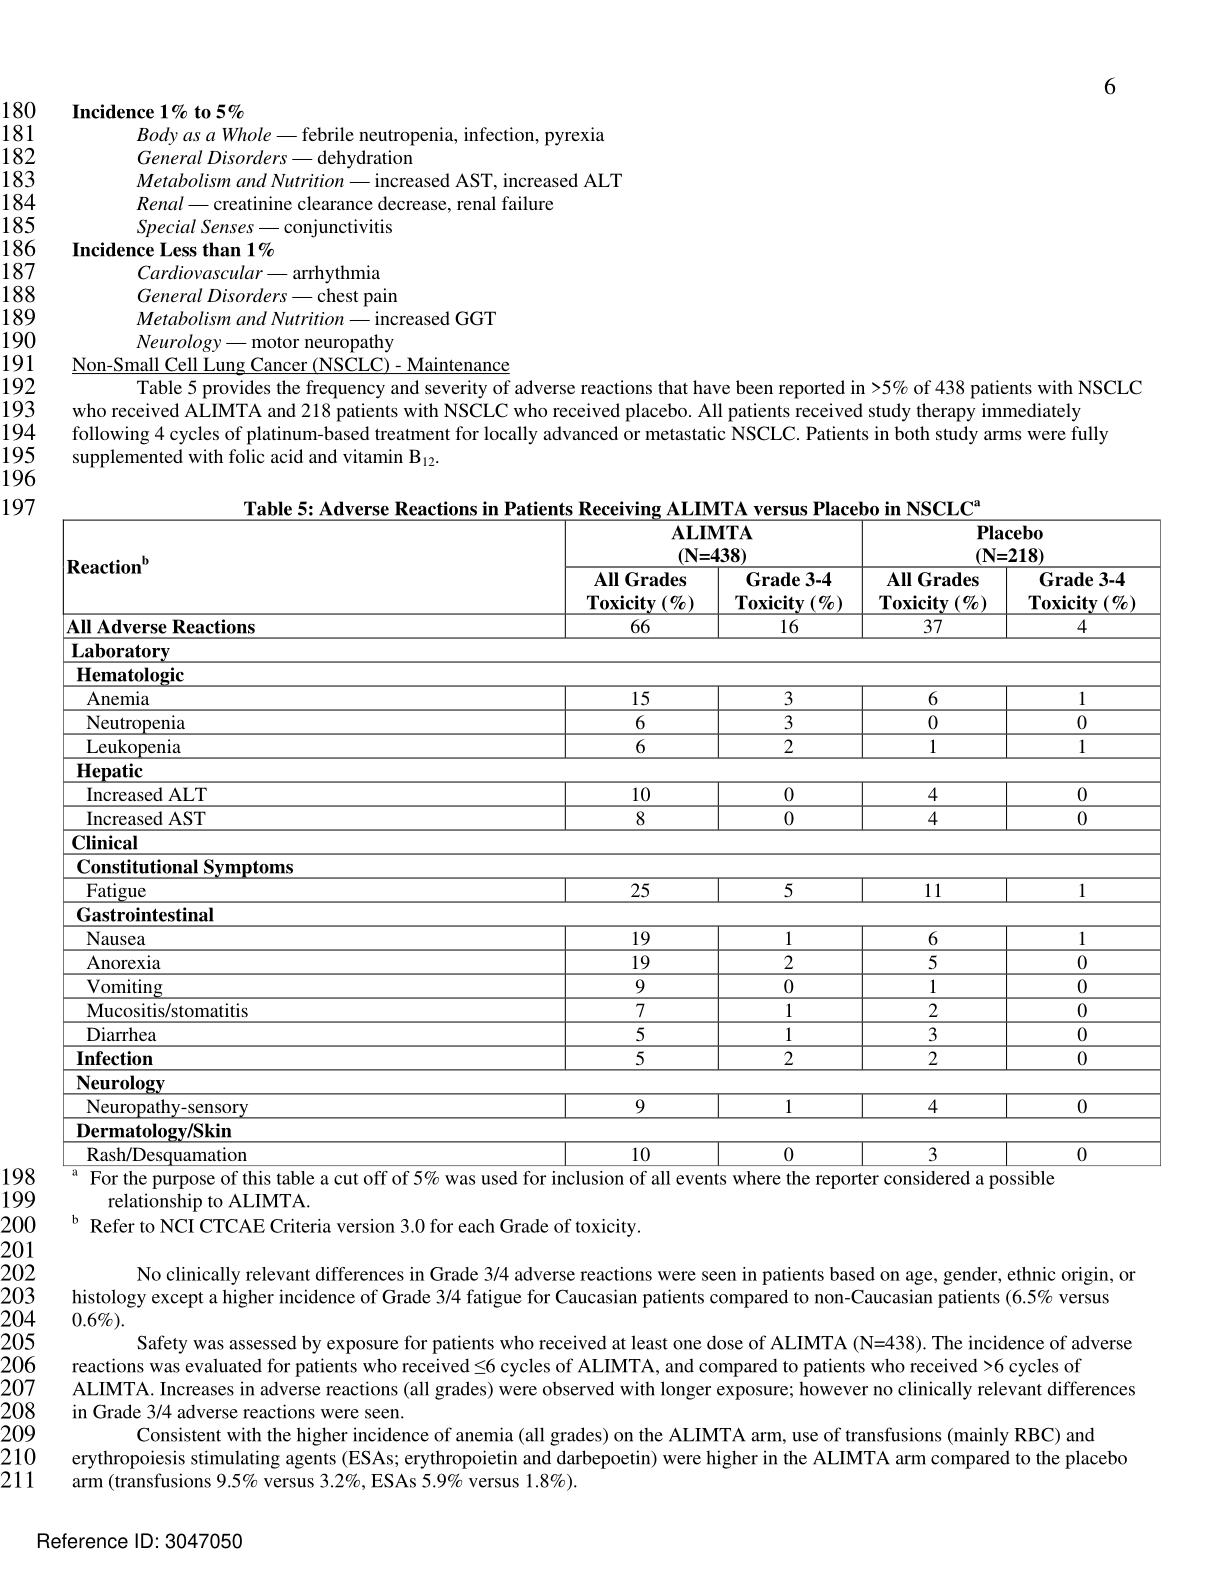partial_lined_merged_cells: (62, 517, 1164, 1167)
